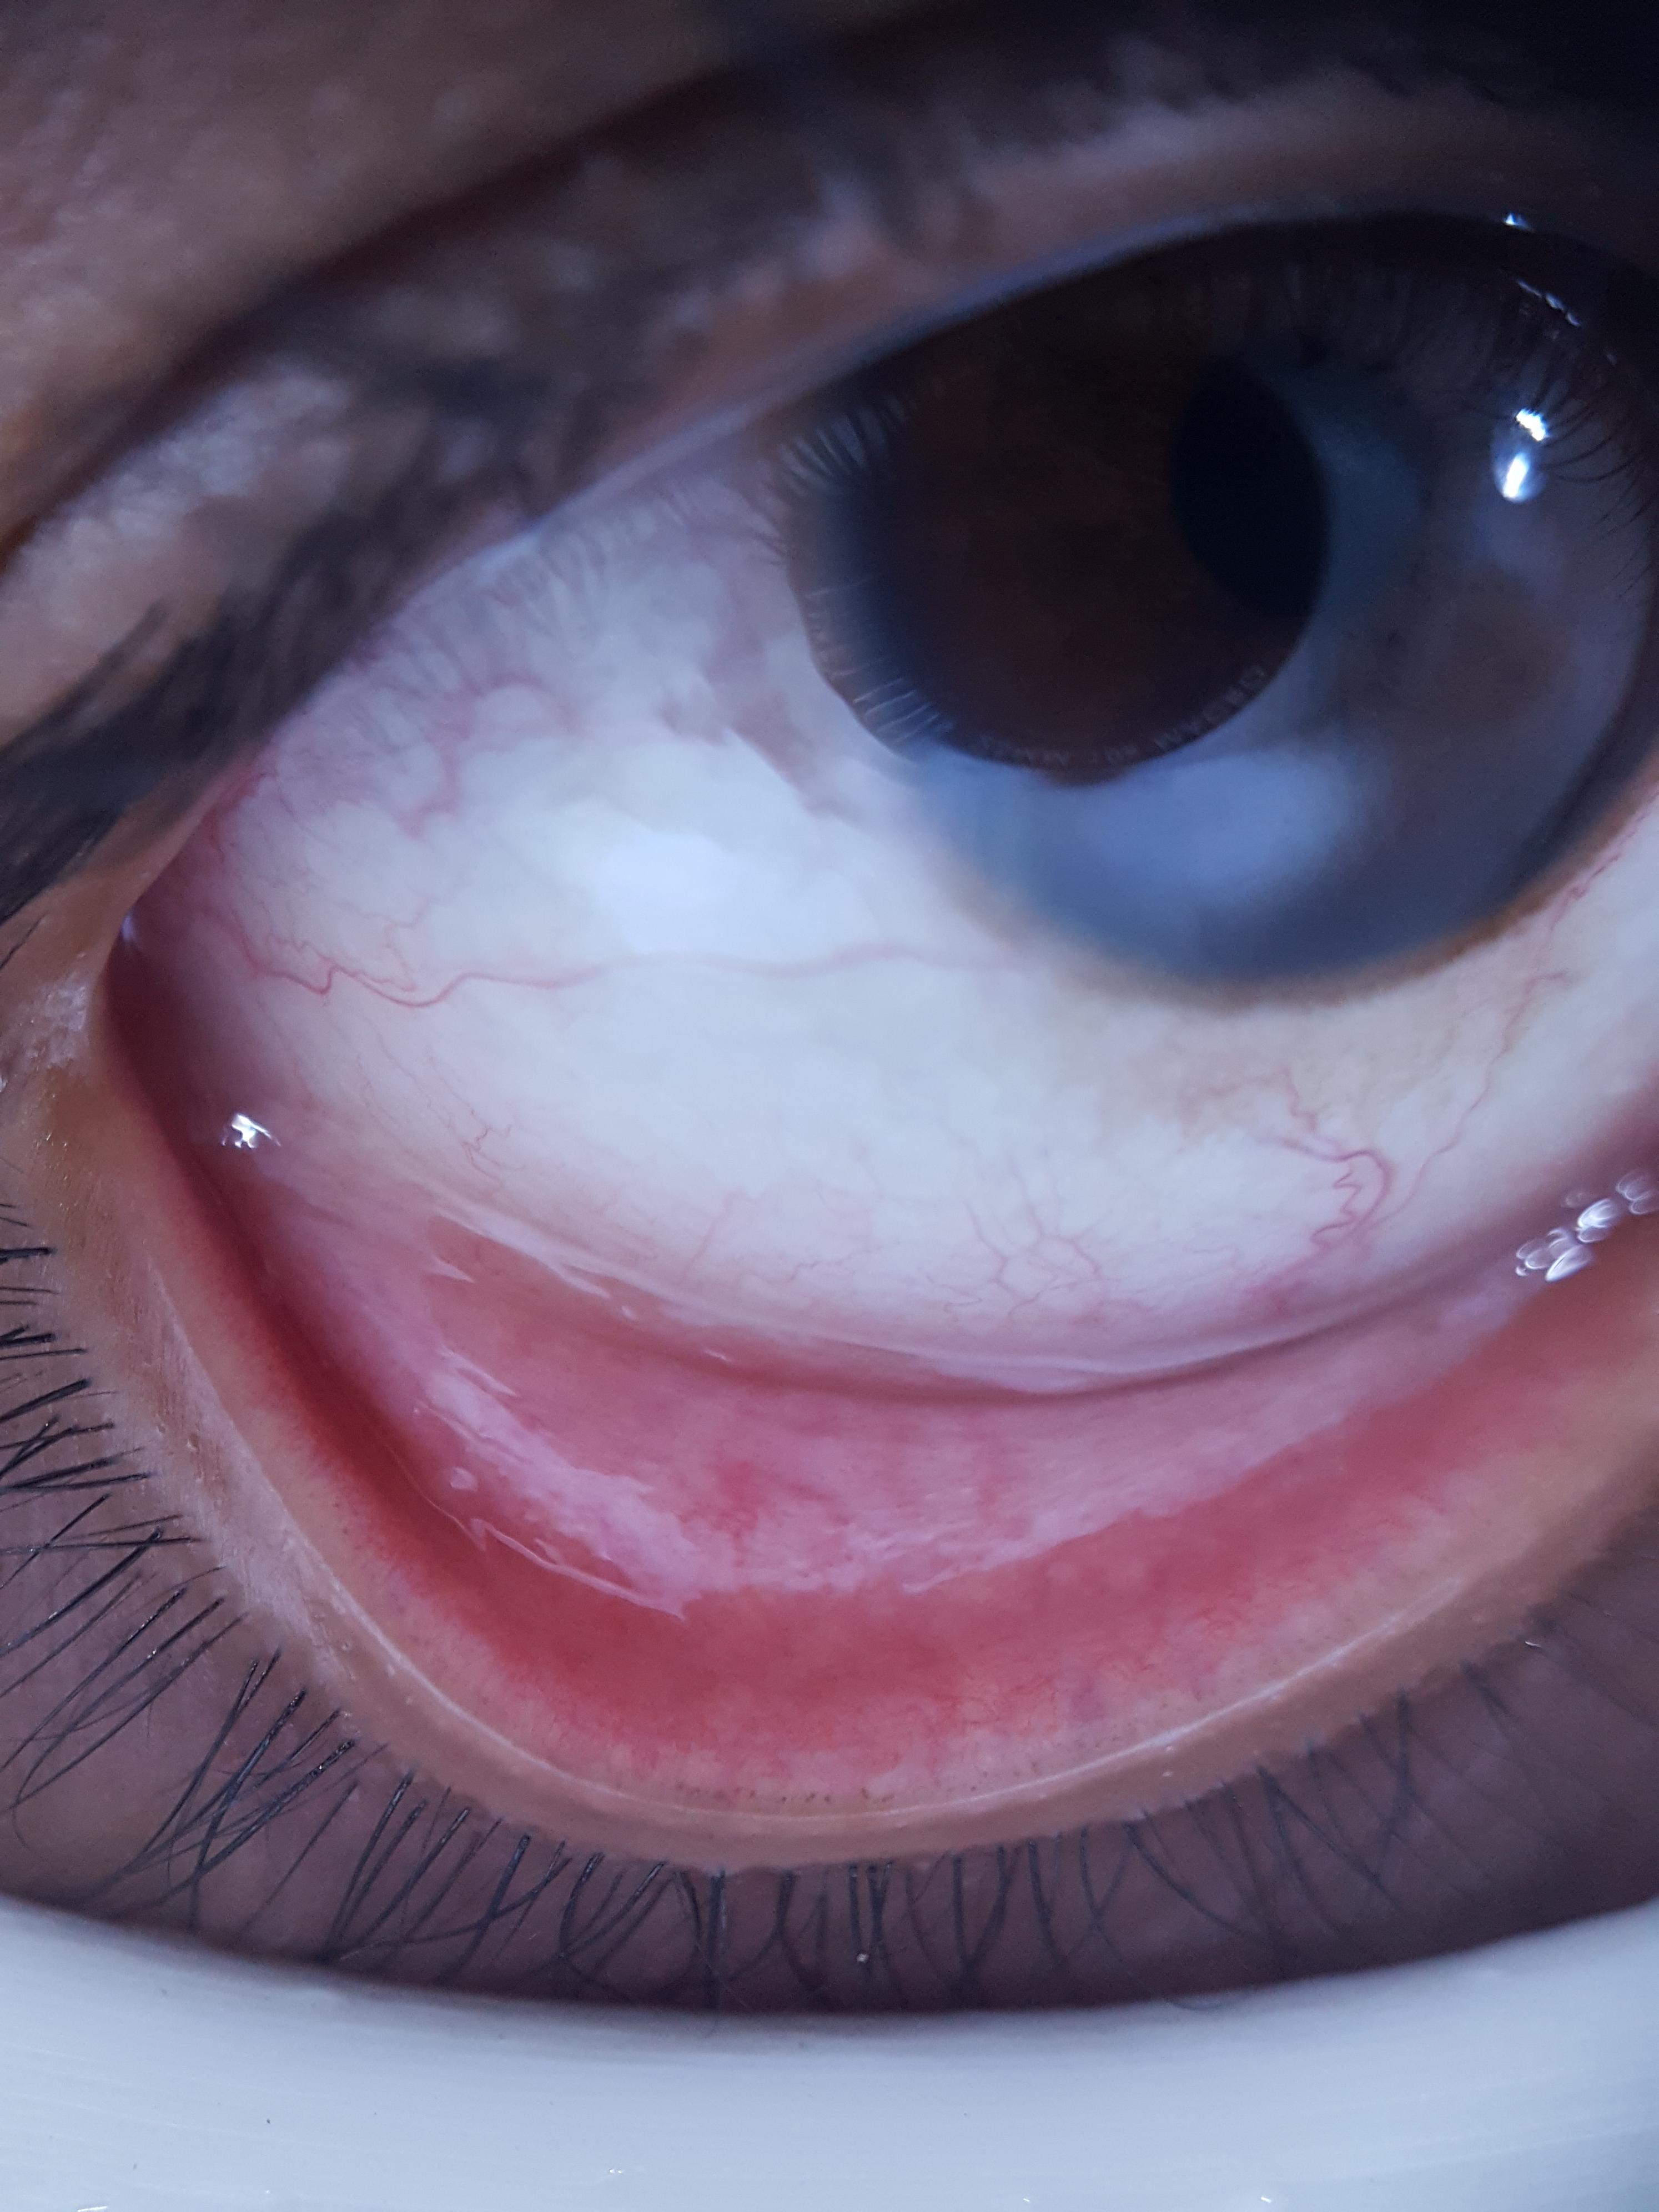forniceal: (258, 1163, 1629, 1608)
forniceal_palpebral: (146, 1134, 1659, 1777)
palpebral: (164, 1141, 1659, 1763)
